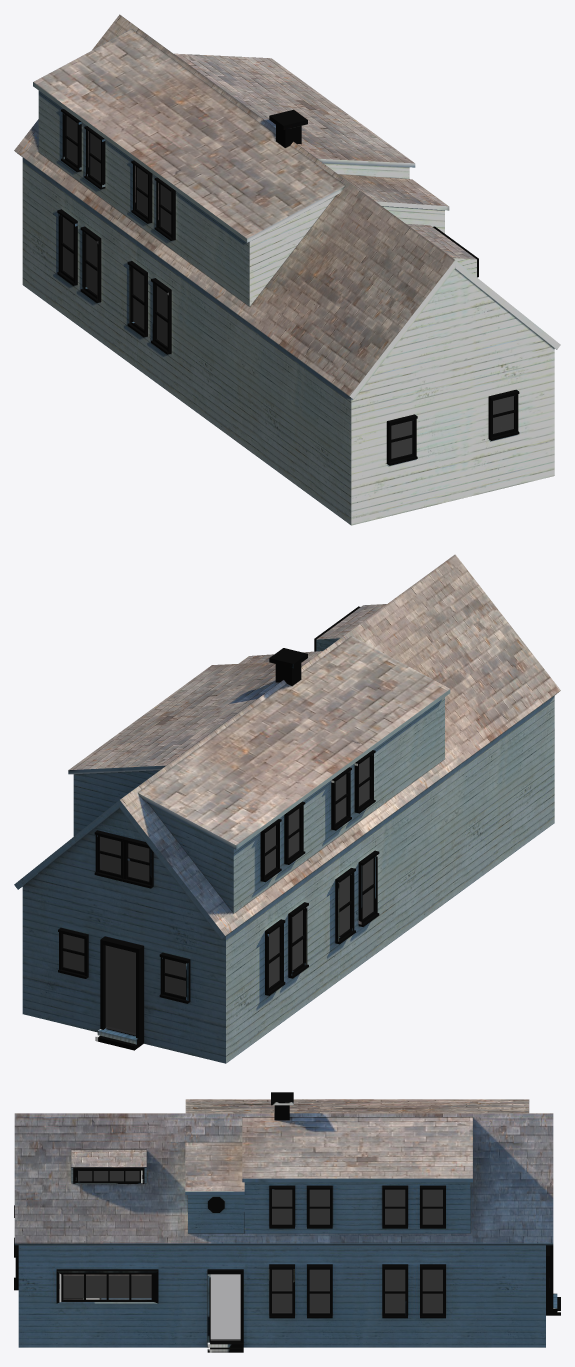
3 renders of one model, top to bottom at view 1: azimuth 30°, elevation 25°; view 2: azimuth 150°, elevation 25°; view 3: azimuth 270°, elevation 25°, orthographic. The views are drawn at different scales.
Visible parts, largest first — view 1: lowpoly_house.005; view 2: lowpoly_house.005; view 3: lowpoly_house.005.
Boxes of the visible parts, bbox=[...] form: lowpoly_house.005: bbox=[14, 14, 560, 525]; lowpoly_house.005: bbox=[14, 554, 560, 1063]; lowpoly_house.005: bbox=[14, 1092, 560, 1352].
Bounding box in the file's own units: 5.41 × 6.18 × 14.52.
Materials: 2 (1 with a texture image).
